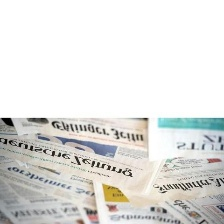news_paper: (0, 114, 168, 197), (4, 116, 176, 154), (114, 155, 223, 209), (92, 171, 188, 223), (0, 179, 104, 223), (141, 117, 224, 166), (156, 190, 223, 224)
